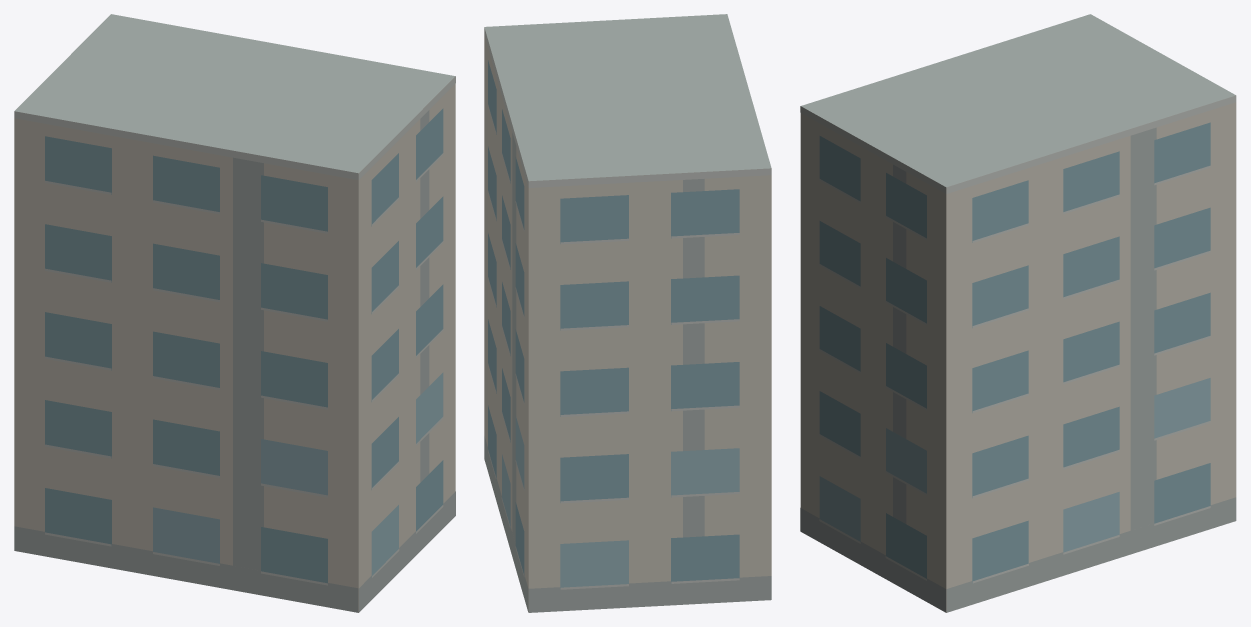
File: survey-upis-32557013.glb
The picture shows the model from 3 angles, left to right: view 1: azimuth 30°, elevation 25°; view 2: azimuth 150°, elevation 25°; view 3: azimuth 270°, elevation 25°; orthographic projection. The views are drawn at different scales.
Visible parts, largest first — view 1: survey-upis-32557013.tmp; view 2: survey-upis-32557013.tmp; view 3: survey-upis-32557013.tmp.
Part boxes in pixels (box(x1,y1,x2,y2)): survey-upis-32557013.tmp: box(14, 14, 455, 612); survey-upis-32557013.tmp: box(484, 14, 771, 612); survey-upis-32557013.tmp: box(800, 14, 1236, 612).
Size of the model in its own units: 13.33 by 15.25 by 14.16.
